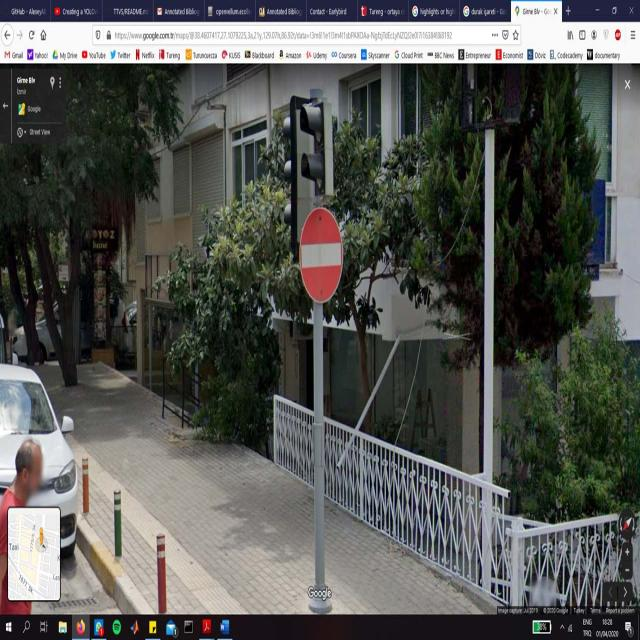girisyok: (298, 207, 344, 302)
